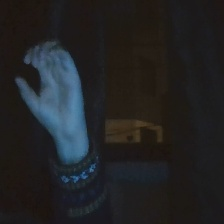C: (12, 37, 98, 141)
